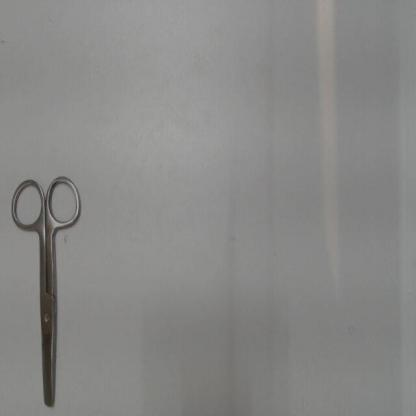Dressing Scissors: (5, 165, 89, 411)
